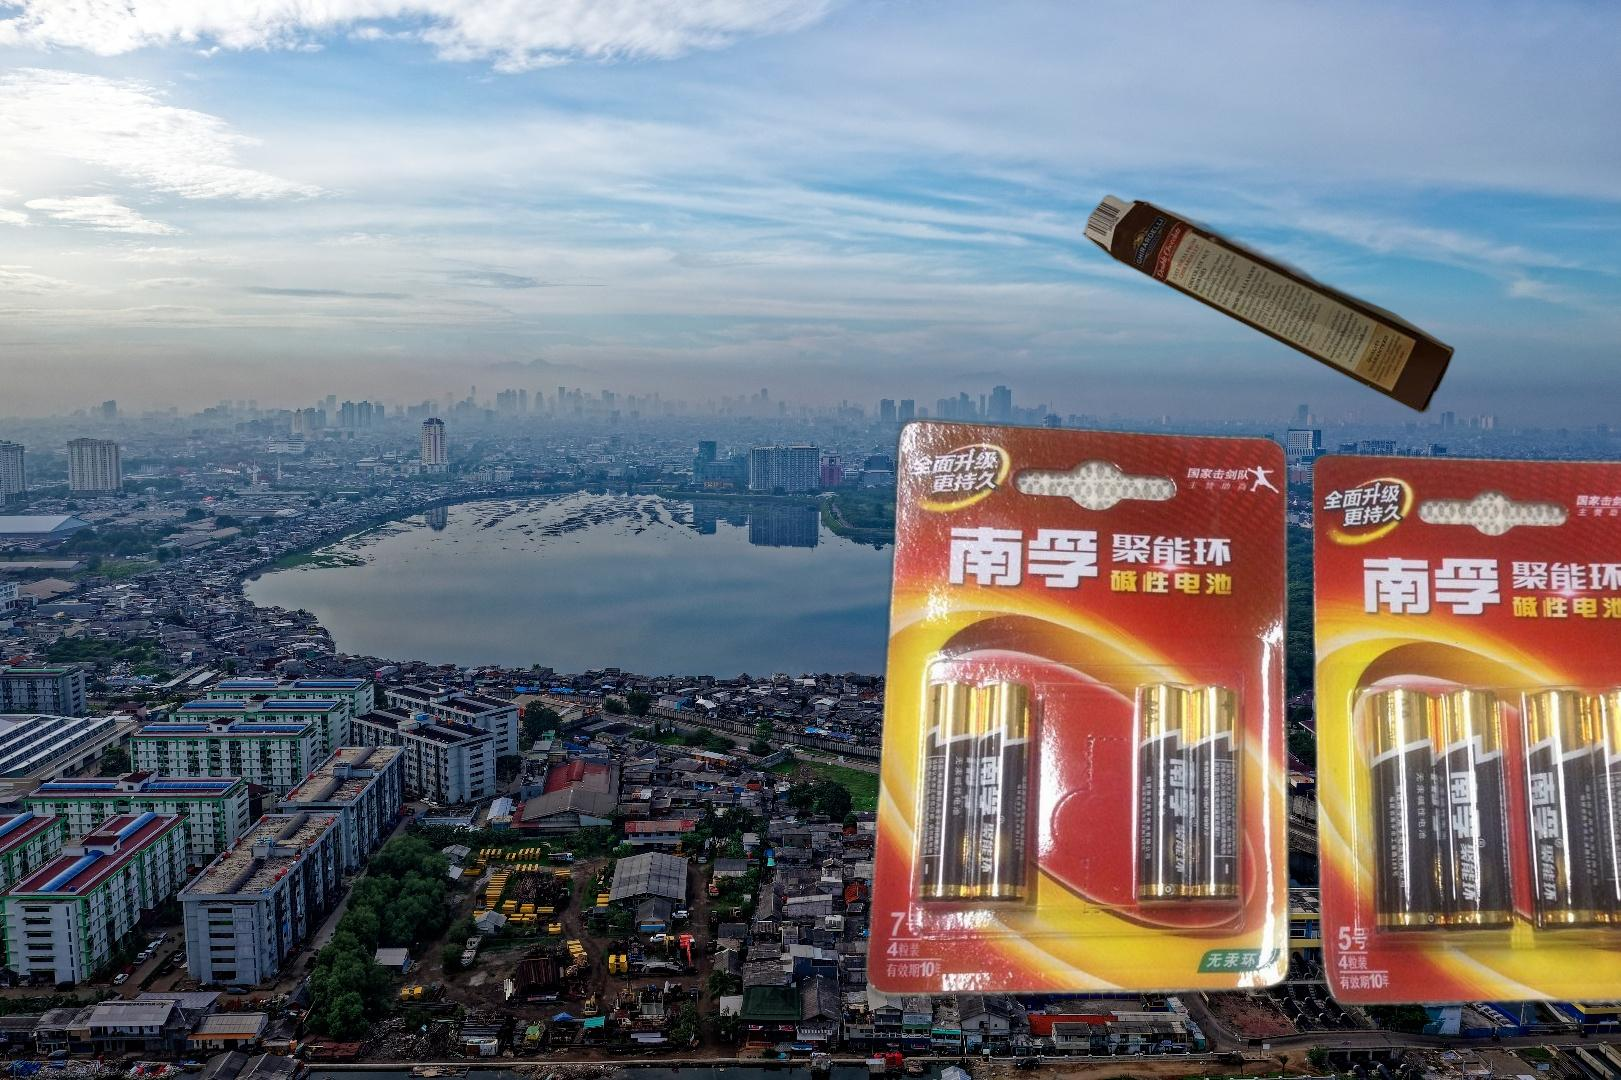battery: (857, 411, 1621, 1015)
biological: (1576, 888, 1621, 1080)
metal-cans: (1096, 893, 1376, 1080)
paper: (1079, 193, 1460, 415)
